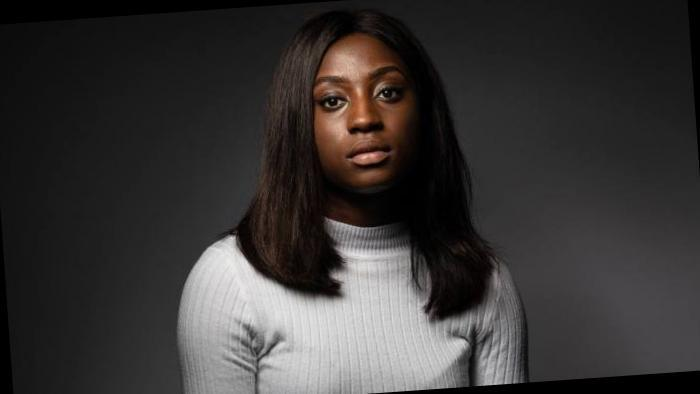Sober: (309, 49, 416, 180)
